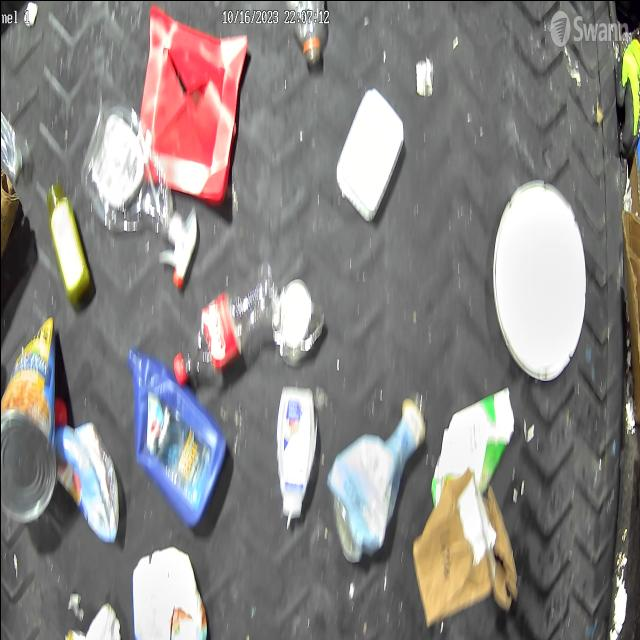can: (0, 311, 57, 526)
non_white_jug: (126, 350, 228, 528)
plastic_bottle: (86, 104, 179, 238), (182, 262, 278, 380), (0, 101, 21, 179)
